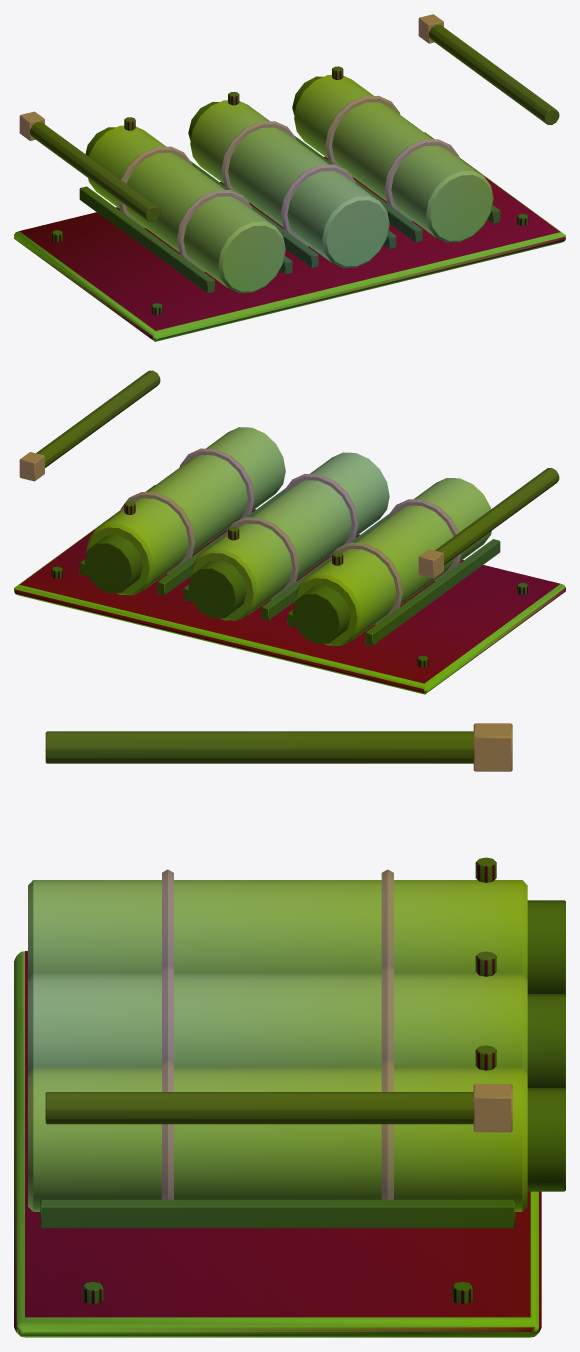
The model's file is RCLModule_gravitas_breaker_quantum_hyperdrive_alloy_fueldrums.fbx.
The picture shows the model from 3 angles, top to bottom: view 1: azimuth 30°, elevation 25°; view 2: azimuth 150°, elevation 25°; view 3: azimuth 270°, elevation 25°; orthographic projection. The views are drawn at different scales.
Visible parts, largest first — view 1: RCLModule_gravitas_breaker_quantum_hyperdrive_alloy_fueldrum (×3); view 2: RCLModule_gravitas_breaker_quantum_hyperdrive_alloy_fueldrum (×3); view 3: RCLModule_gravitas_breaker_quantum_hyperdrive_alloy_fueldrum (×3).
Boxes of the visible parts, <box> form: RCLModule_gravitas_breaker_quantum_hyperdrive_alloy_fueldrum (×3): <box>14,14,565,341</box>; RCLModule_gravitas_breaker_quantum_hyperdrive_alloy_fueldrum (×3): <box>14,370,565,694</box>; RCLModule_gravitas_breaker_quantum_hyperdrive_alloy_fueldrum (×3): <box>14,723,565,1337</box>.
Size of the model in its own units: 64 by 19.4 by 39.75.
